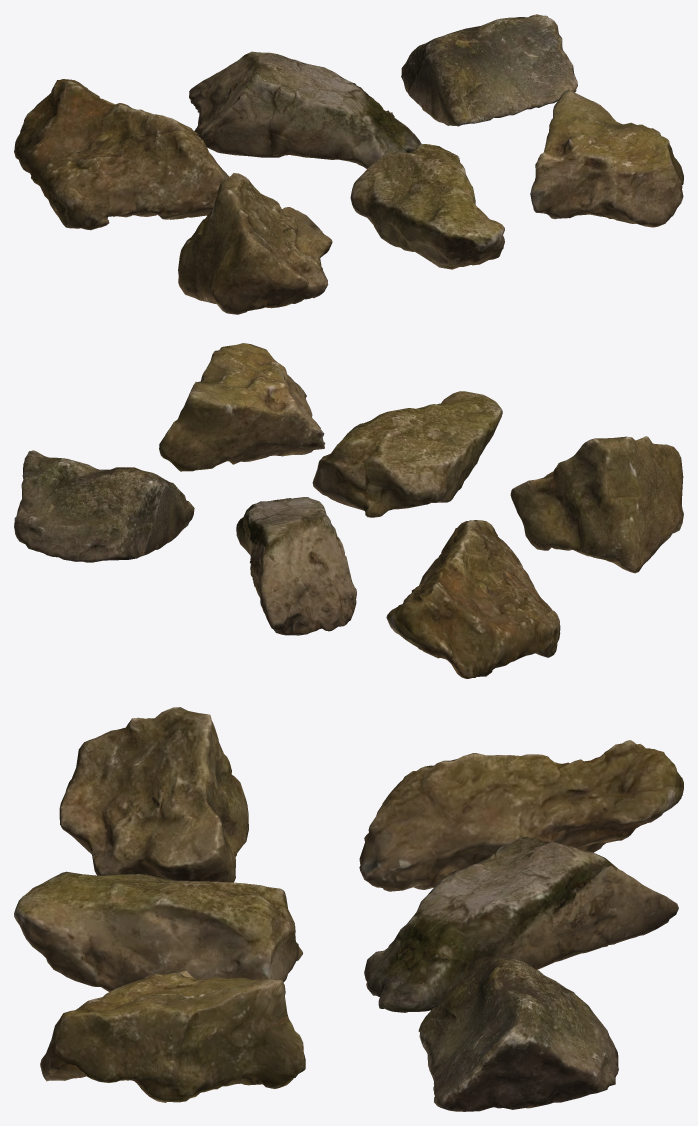
Rendered from rock_moss_set_01.glb.
The picture shows the model from 3 angles, top to bottom: view 1: azimuth 30°, elevation 25°; view 2: azimuth 150°, elevation 25°; view 3: azimuth 270°, elevation 25°; orthographic projection. The views are drawn at different scales.
Visible parts, largest first — view 1: rock_moss_set_01_rock01; view 2: rock_moss_set_01_rock01; view 3: rock_moss_set_01_rock01.
Boxes of the visible parts, x1,y1,x2,y2 form: rock_moss_set_01_rock01: (14, 14, 683, 314); rock_moss_set_01_rock01: (14, 343, 683, 678); rock_moss_set_01_rock01: (14, 707, 683, 1111).
Size of the model in its own units: 8 by 1.76 by 6.94.
Materials: 1 (1 with a texture image).
